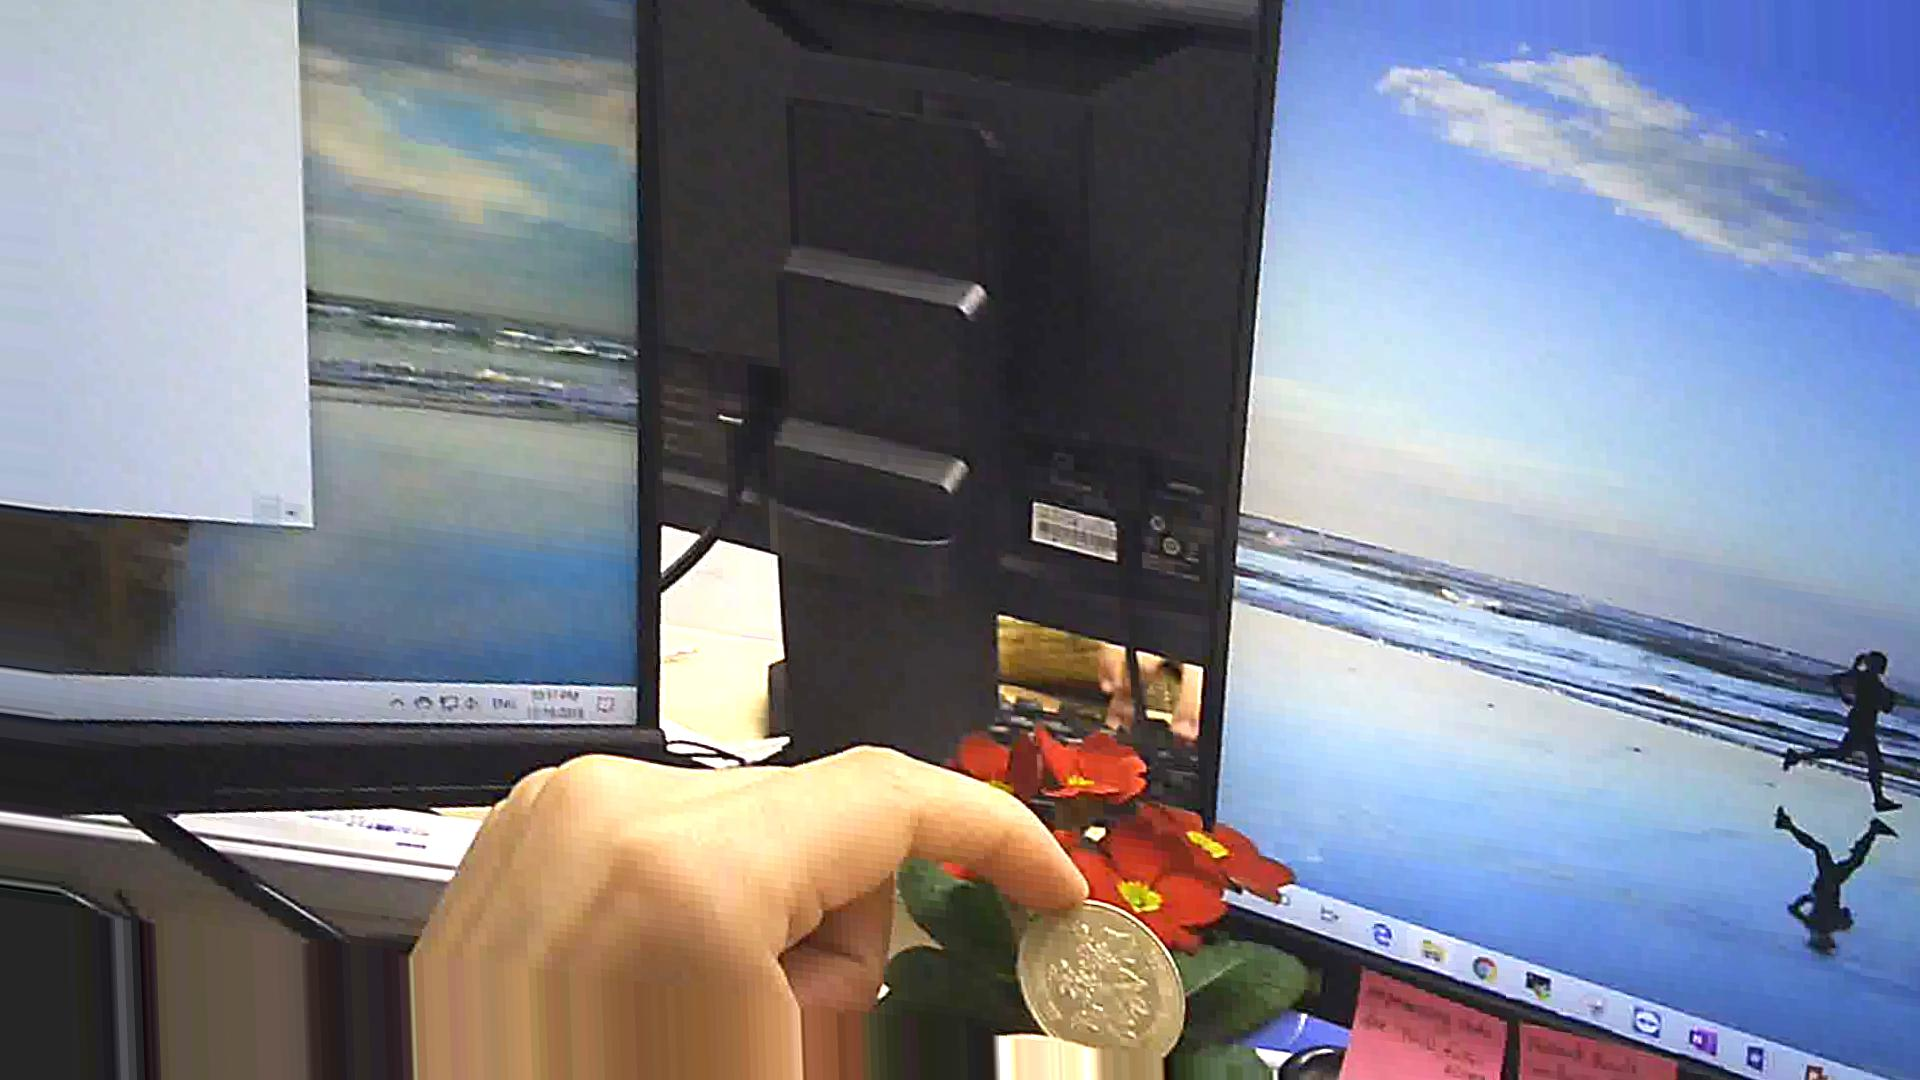500 Yen: (998, 891, 1233, 1062)
